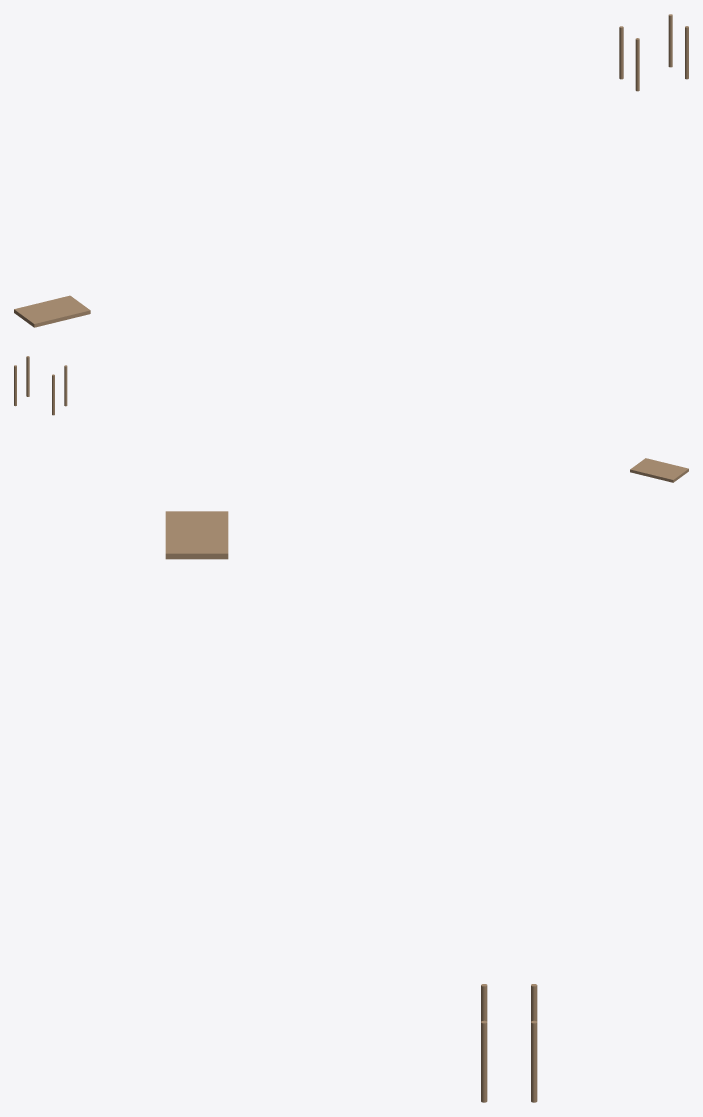
The model's file is PR_Desk.glb.
3 views of the same model, one above another, from view 1: azimuth 30°, elevation 25°; view 2: azimuth 150°, elevation 25°; view 3: azimuth 270°, elevation 25° (orthographic). The views are drawn at different scales.
Visible parts, largest first — view 1: PR_Desk_Top; view 2: PR_Desk_Top; view 3: PR_Desk_Top.
Part boxes in pixels (x1=…): PR_Desk_Top: x1=14, y1=295, x2=90, y2=327; PR_Desk_Top: x1=630, y1=458, x2=688, y2=482; PR_Desk_Top: x1=165, y1=511, x2=228, y2=559.
Bounding box in the file's own units: 21.55 × 1.4 × 5.95.
